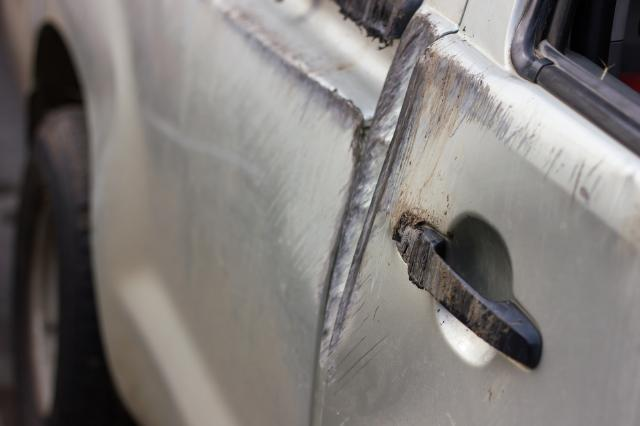Door: (338, 14, 640, 375)
Fender: (206, 0, 371, 150)
